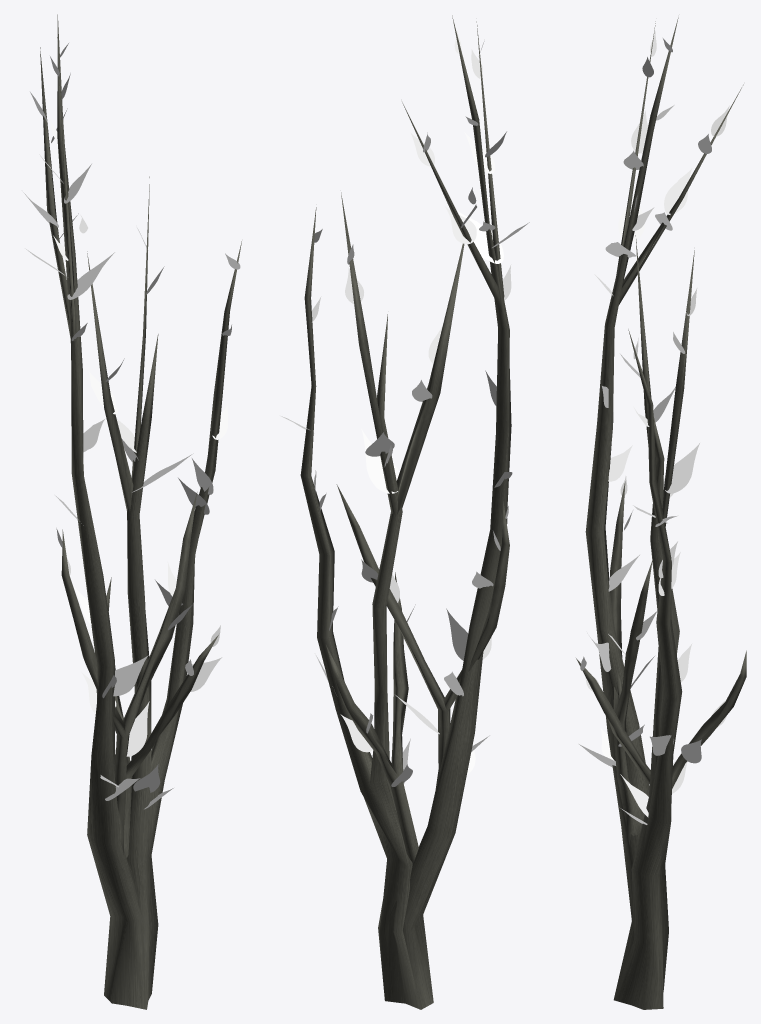
Rendered from cgc_tree.fbx.
3 views of the same model, side by side, from view 1: azimuth 30°, elevation 25°; view 2: azimuth 150°, elevation 25°; view 3: azimuth 270°, elevation 25° (orthographic). The views are drawn at different scales.
Parts seen in each view (by area): view 1: tree, leaves; view 2: tree, leaves; view 3: tree, leaves.
Boxes of the visible parts, left/top/right/bottom form: tree: left=40, top=14, right=241, bottom=1009; leaves: left=23, top=43, right=240, bottom=809; tree: left=300, top=15, right=511, bottom=1009; leaves: left=281, top=30, right=529, bottom=792; tree: left=576, top=17, right=746, bottom=1009; leaves: left=579, top=31, right=729, bottom=824.
Size of the model in its own units: 1220 by 4886 by 822.
